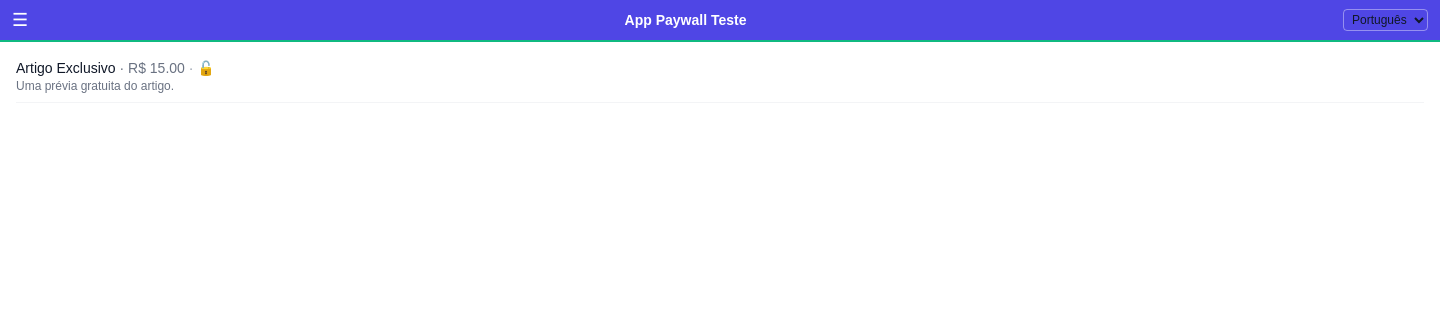
Test: AppRuntime conteudo_pago module (public mode) › shows the full body for an already unlocked item
Expected: the text "Artigo Exclusivo" is shown, [16, 60, 116, 76]
What coordinates should you click on to do the following:
click the text "Artigo Exclusivo"
I would click on:
 (115, 68)
Its box is [16, 60, 215, 76].
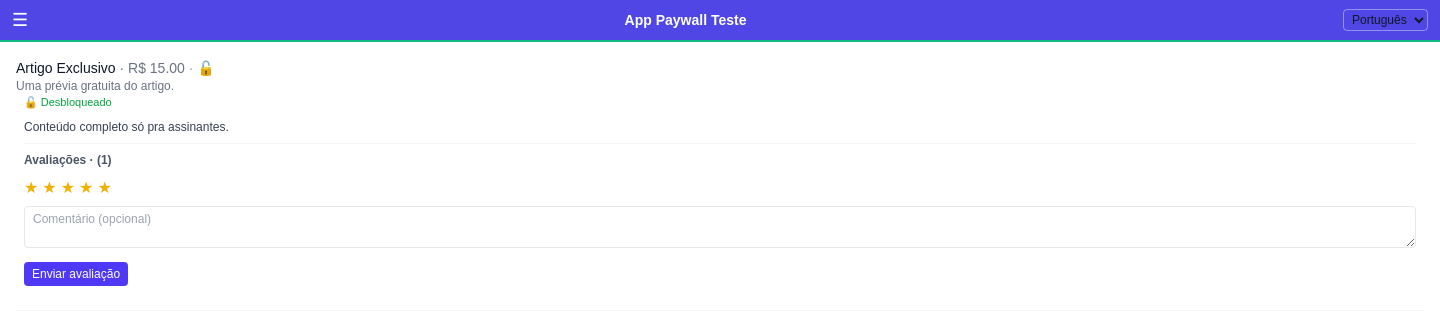
Result: the text "Conteúdo completo só pra assinantes." is shown at [24, 120, 229, 134]
Result: the text "🔓 Desbloqueado" is shown at [24, 96, 112, 108]
